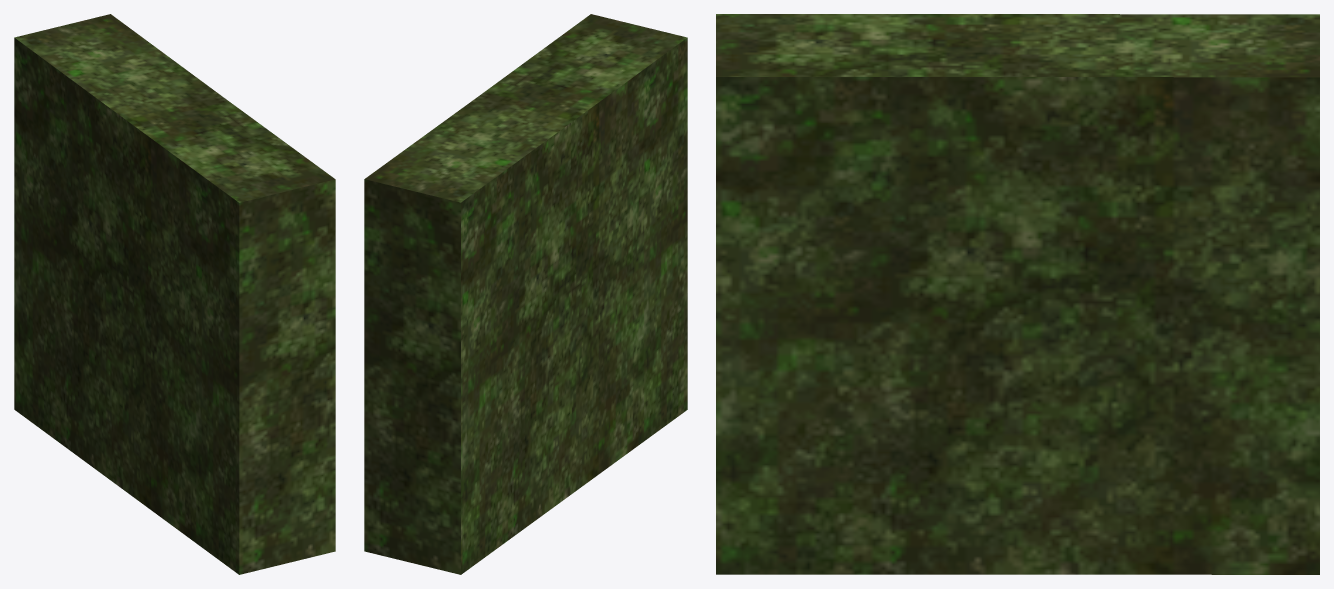
File: OVERHILL_A_01_OBJECT228.fbx
3 renders of one model, left to right at view 1: azimuth 30°, elevation 25°; view 2: azimuth 150°, elevation 25°; view 3: azimuth 270°, elevation 25°, orthographic. The views are drawn at different scales.
Parts seen in each view (by area): view 1: OVERHILL_A_01_OBJECT228; view 2: OVERHILL_A_01_OBJECT228; view 3: OVERHILL_A_01_OBJECT228.
Boxes of the visible parts, box(x1,y1,x2,y2) form: OVERHILL_A_01_OBJECT228: box(14, 14, 335, 574); OVERHILL_A_01_OBJECT228: box(364, 14, 687, 574); OVERHILL_A_01_OBJECT228: box(716, 14, 1319, 574).
Bounding box in the file's own units: 8433 × 30865 × 33940.
1 material, 1 textured.
